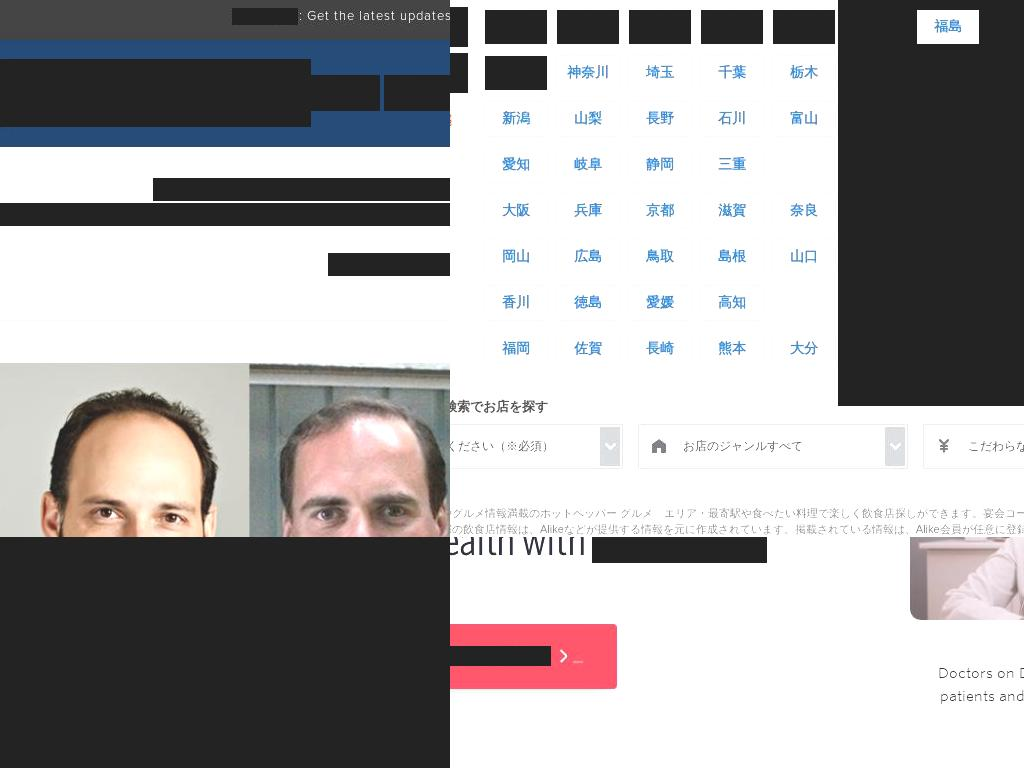button: (0, 362, 450, 537), (0, 59, 311, 127), (638, 424, 908, 469), (450, 623, 618, 689), (450, 424, 623, 469), (923, 424, 1024, 469), (311, 75, 380, 111), (485, 10, 547, 44), (557, 10, 619, 44), (629, 10, 691, 44), (701, 10, 763, 44), (773, 10, 835, 44), (845, 10, 907, 44), (917, 10, 979, 44), (485, 56, 547, 90), (557, 56, 619, 90), (629, 56, 691, 90), (701, 56, 763, 90), (773, 56, 835, 90), (845, 56, 907, 90), (917, 56, 979, 90), (485, 102, 547, 136), (557, 102, 619, 136), (629, 102, 691, 136), (701, 102, 763, 136), (773, 102, 835, 136), (845, 102, 907, 136), (485, 148, 547, 182), (557, 148, 619, 182), (629, 148, 691, 182), (701, 148, 763, 182), (485, 194, 547, 228), (557, 194, 619, 228), (629, 194, 691, 228), (701, 194, 763, 228), (773, 194, 835, 228), (845, 194, 907, 228), (485, 240, 547, 274), (557, 240, 619, 274), (629, 240, 691, 274), (701, 240, 763, 274), (773, 240, 835, 274), (485, 286, 547, 320), (557, 286, 619, 320), (629, 286, 691, 320), (701, 286, 763, 320), (485, 332, 547, 366), (557, 332, 619, 366), (629, 332, 691, 366), (701, 332, 763, 366), (773, 332, 835, 366), (845, 332, 907, 366), (917, 332, 979, 366), (989, 332, 1024, 366)
heading: (0, 619, 326, 740), (0, 677, 343, 768), (0, 59, 286, 127), (0, 564, 237, 630), (450, 418, 548, 493), (592, 537, 767, 563), (450, 537, 592, 563)
image: (0, 537, 450, 768), (0, 362, 450, 537), (838, 0, 1024, 406), (555, 648, 570, 664)
link: (328, 253, 450, 276), (233, 203, 352, 226)
text: (641, 427, 905, 466), (450, 523, 1024, 537), (920, 661, 1024, 731), (450, 507, 1024, 519), (153, 178, 450, 201), (450, 427, 620, 466), (0, 203, 233, 226), (926, 427, 1024, 466), (298, 8, 450, 25), (384, 75, 450, 111), (450, 646, 551, 666), (232, 8, 299, 25)
